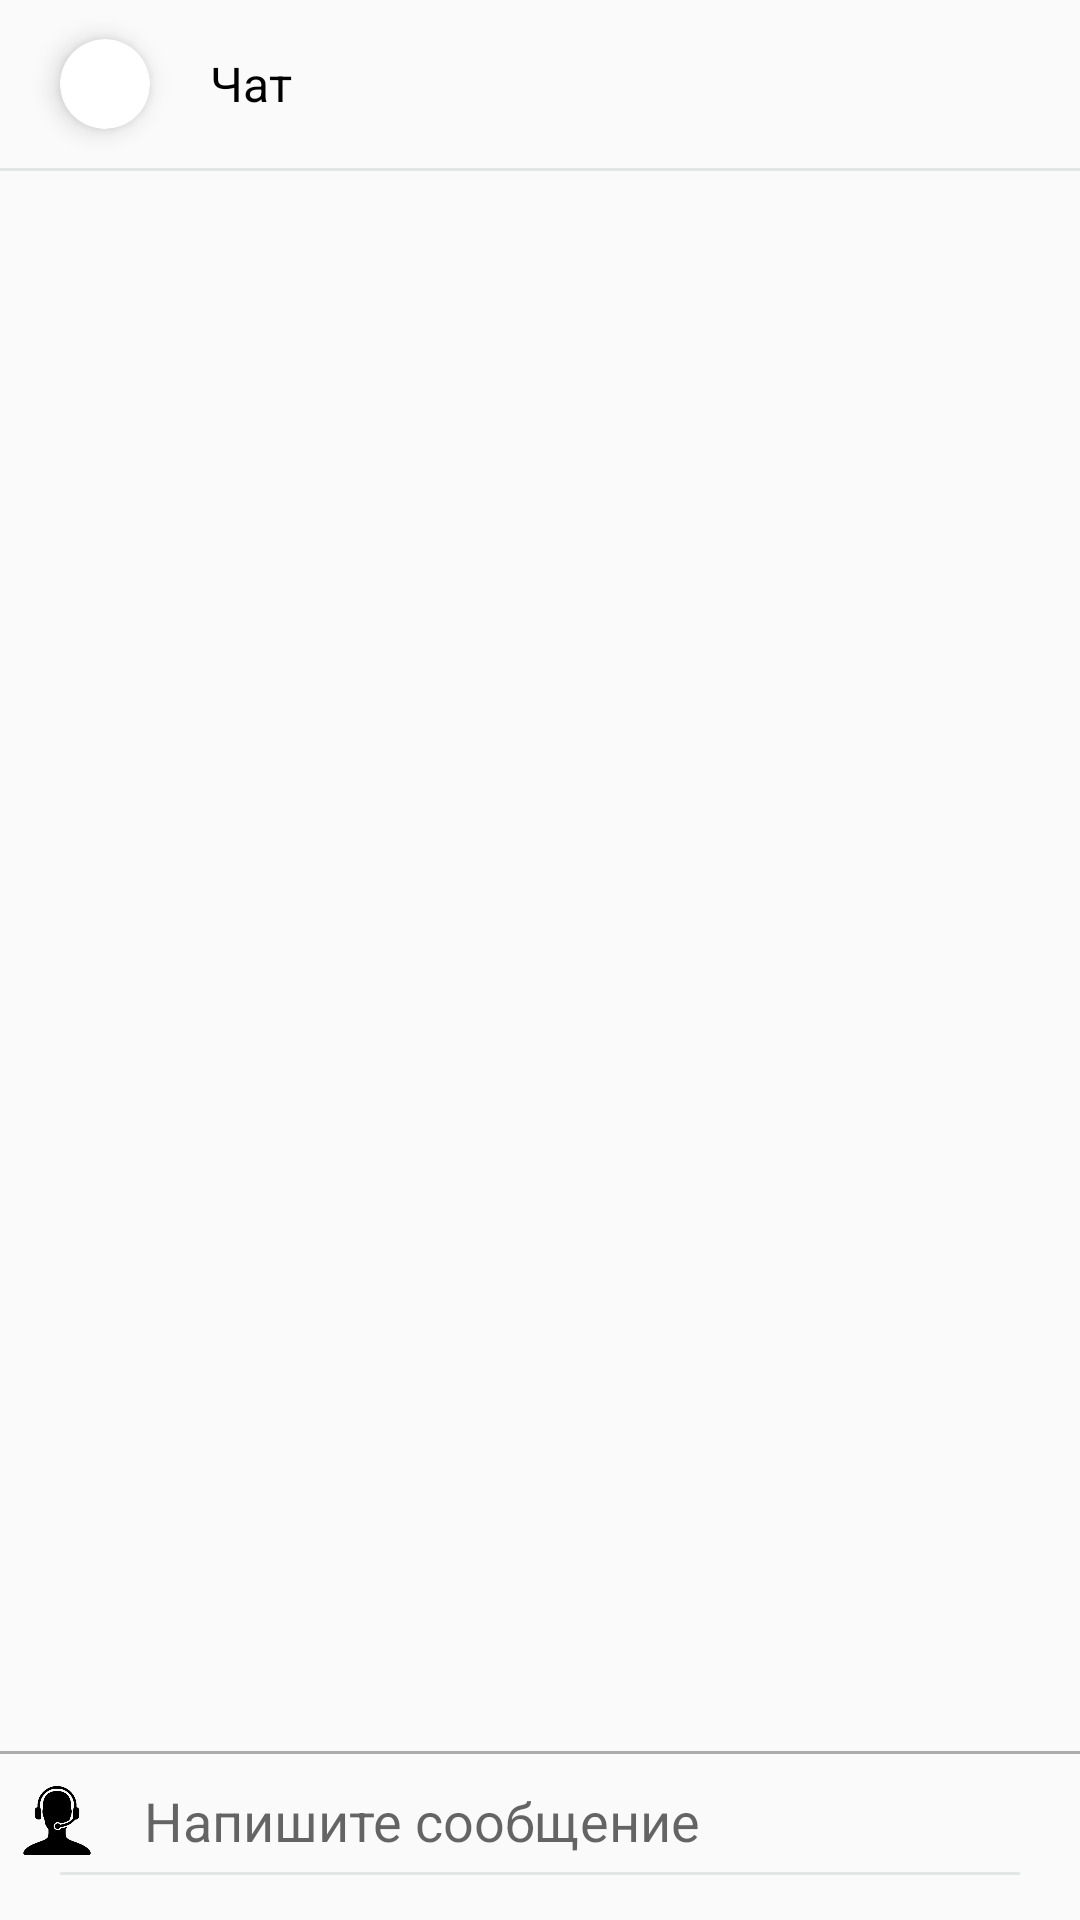

Where to tap for icons on this 1080 × 1920 app screen, as (x,y):
dispatcher: (57,1820)
